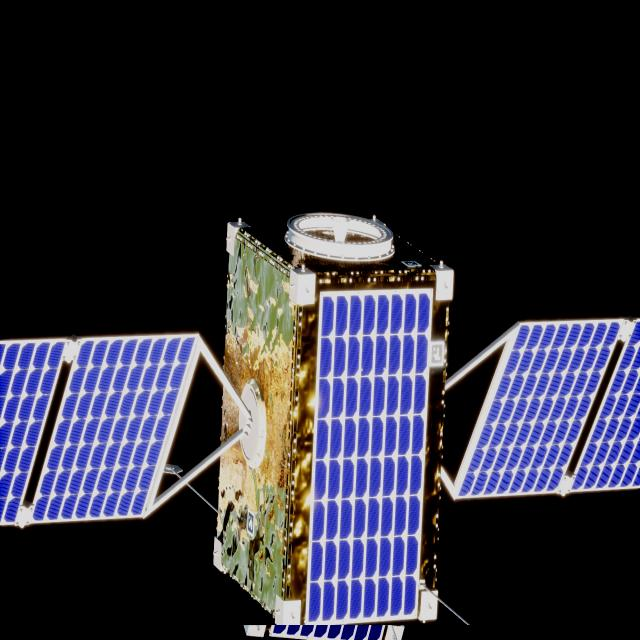medium_debris: (0, 212, 640, 628)
